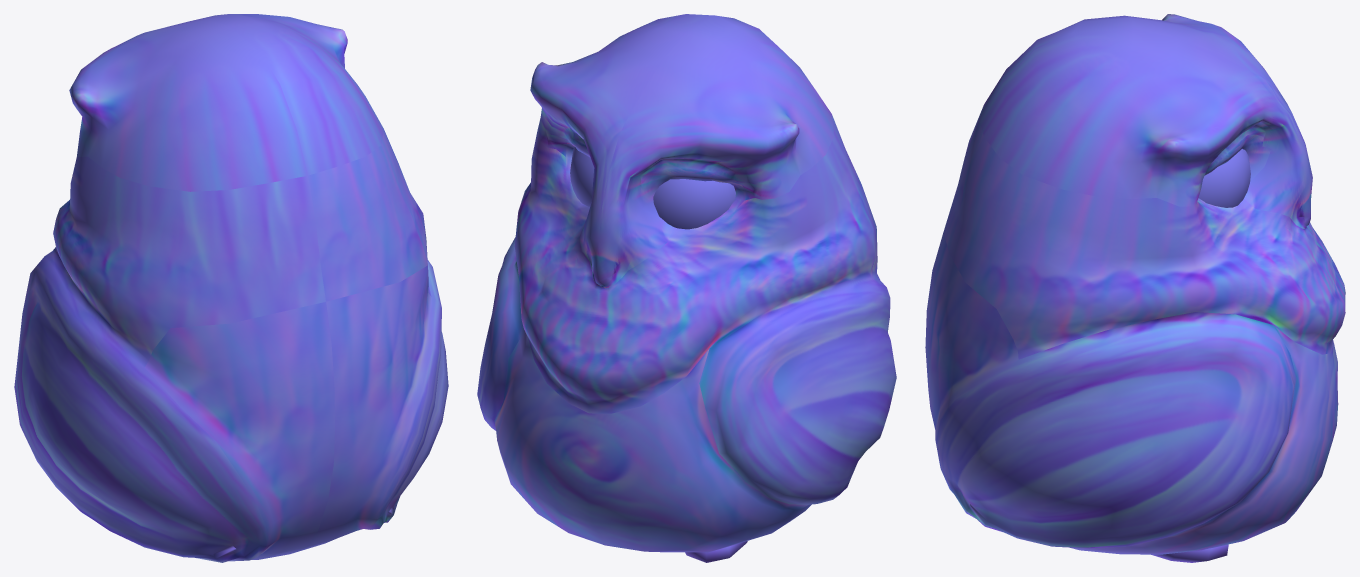
The model's file is owl.dae.
3 renders of one model, left to right at view 1: azimuth 30°, elevation 25°; view 2: azimuth 150°, elevation 25°; view 3: azimuth 270°, elevation 25°, orthographic. The views are drawn at different scales.
Visible parts, largest first — view 1: Group29894_001_Group29894_002; view 2: Group29894_001_Group29894_002; view 3: Group29894_001_Group29894_002.
Part boxes in pixels (x1=…): Group29894_001_Group29894_002: x1=14, y1=14, x2=448, y2=562; Group29894_001_Group29894_002: x1=477, y1=14, x2=896, y2=562; Group29894_001_Group29894_002: x1=925, y1=14, x2=1345, y2=562.
Bounding box in the file's own units: 2.36 × 2.32 × 3.05.
Materials: 1 (1 with a texture image).
